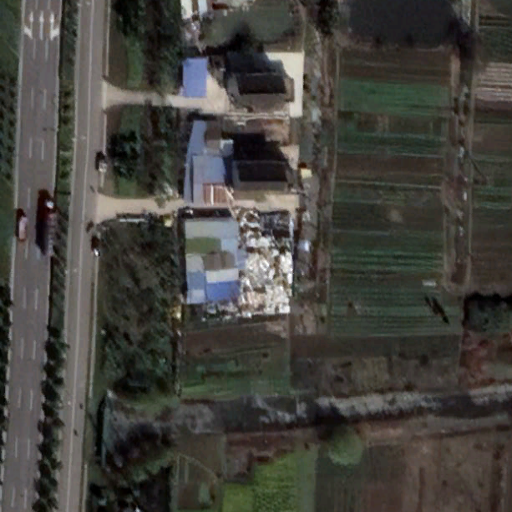msw: (236, 210, 291, 317)
